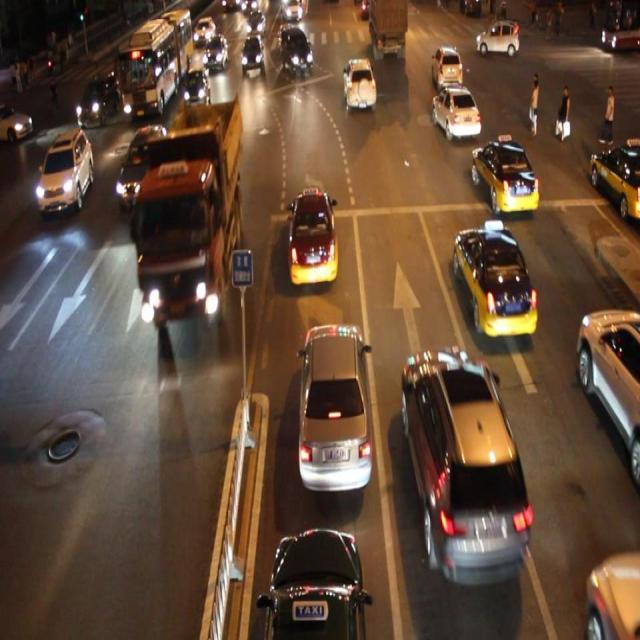bus: (136, 101, 242, 319), (372, 1, 407, 59)
car: (399, 350, 529, 583), (297, 319, 373, 495), (260, 526, 367, 640), (575, 306, 640, 477), (452, 222, 536, 336), (469, 138, 538, 214), (115, 122, 172, 212), (583, 550, 640, 640), (287, 188, 339, 284), (36, 128, 93, 215), (430, 84, 480, 141), (76, 72, 120, 127), (343, 59, 376, 112), (280, 28, 314, 75), (431, 44, 463, 93), (184, 66, 210, 110), (203, 32, 228, 72), (241, 36, 264, 73)
van: (121, 9, 191, 115)
